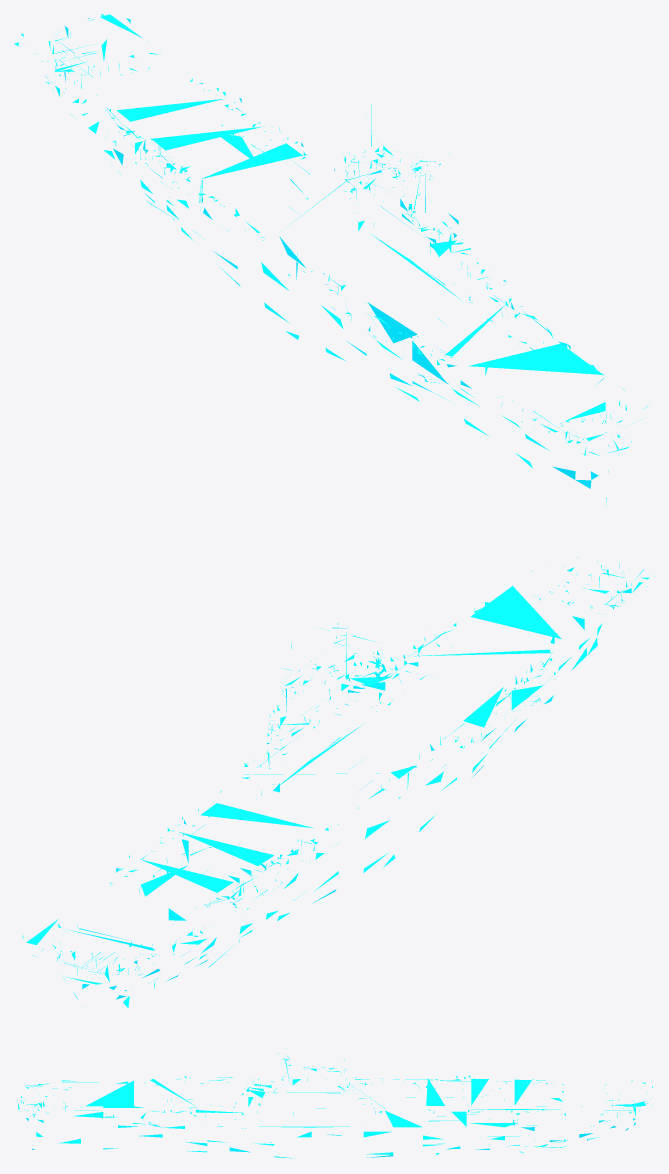
Rendered from Hornet.glb.
3 views of the same model, one above another, from view 1: azimuth 30°, elevation 25°; view 2: azimuth 150°, elevation 25°; view 3: azimuth 270°, elevation 25° (orthographic). The views are drawn at different scales.
Size of the model in its own units: 2.56 by 3.59 by 16.85.
